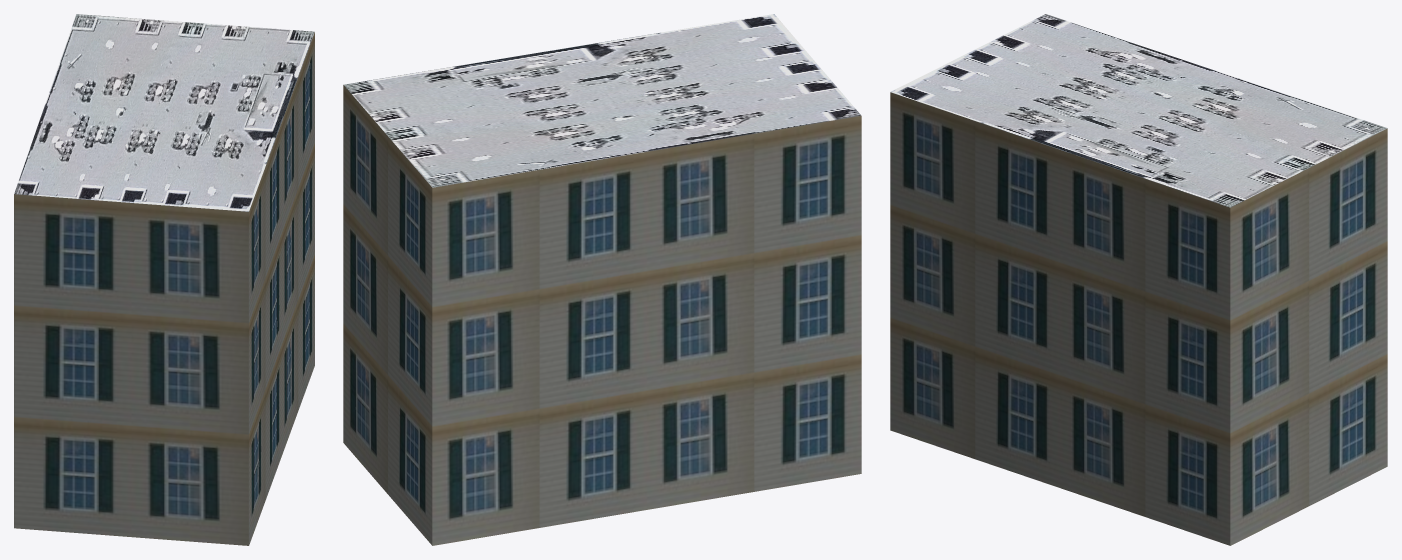
Rendered from ResTex__3431.fbx.
3 renders of one model, left to right at view 1: azimuth 30°, elevation 25°; view 2: azimuth 150°, elevation 25°; view 3: azimuth 270°, elevation 25°, orthographic. The views are drawn at different scales.
Parts seen in each view (by area): view 1: CityEngineMaterial_7_m, CityEngineMaterial_m; view 2: CityEngineMaterial_7_m, CityEngineMaterial_m; view 3: CityEngineMaterial_7_m, CityEngineMaterial_m.
Boxes of the visible parts, bbox=[...] form: CityEngineMaterial_7_m: bbox=[14, 32, 314, 545]; CityEngineMaterial_m: bbox=[14, 14, 314, 211]; CityEngineMaterial_7_m: bbox=[343, 85, 861, 545]; CityEngineMaterial_m: bbox=[344, 14, 860, 187]; CityEngineMaterial_7_m: bbox=[890, 92, 1387, 545]; CityEngineMaterial_m: bbox=[890, 14, 1387, 207].
Size of the model in its own units: 11.05 by 9 by 12.
Materials: 2 (2 with a texture image).
